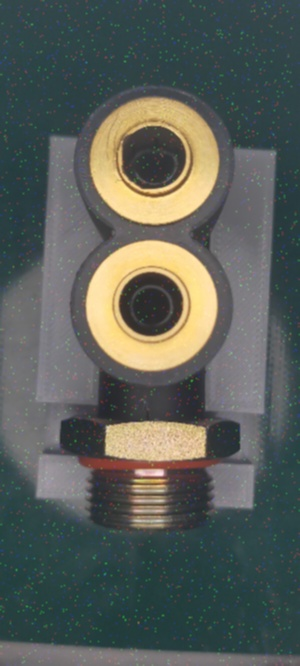craze: (141, 403, 154, 426)
off-centered: (124, 142, 188, 187)
